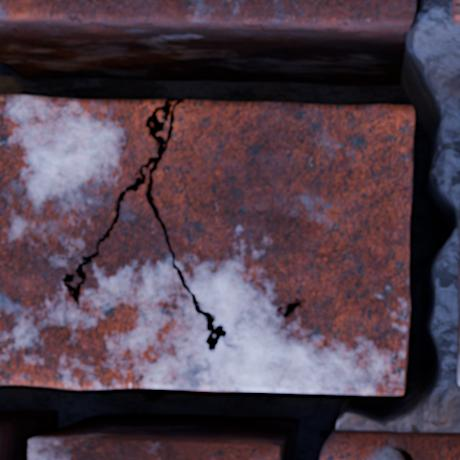brick: (0, 96, 413, 393), (0, 0, 414, 30), (452, 0, 459, 25), (457, 310, 459, 383), (458, 270, 459, 296)
broken_brick: (29, 435, 277, 459), (323, 429, 459, 459)
crack: (0, 0, 459, 459), (391, 445, 413, 459)
